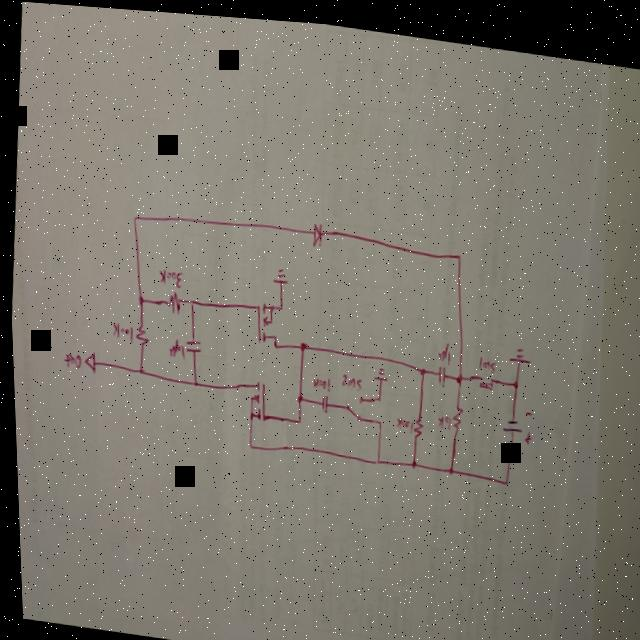capacitor: (181, 335, 199, 354), (434, 357, 444, 381), (317, 388, 326, 411)
diode: (309, 215, 323, 246)
ground: (504, 338, 530, 360), (269, 262, 288, 284), (371, 361, 386, 377)
junction: (453, 367, 461, 380), (135, 293, 143, 305), (510, 372, 517, 385), (296, 338, 305, 348), (293, 390, 301, 401), (416, 361, 424, 372), (499, 470, 507, 481), (292, 411, 300, 422), (129, 213, 137, 224), (186, 296, 194, 306), (444, 460, 451, 471), (135, 364, 142, 375), (244, 438, 251, 449), (407, 453, 414, 463), (371, 452, 378, 462), (454, 246, 461, 256), (189, 377, 196, 385), (373, 414, 380, 422), (374, 390, 380, 398), (271, 340, 276, 347), (277, 302, 282, 309), (271, 331, 275, 338)
resistor: (162, 287, 180, 315), (448, 397, 461, 429), (131, 321, 148, 345), (409, 411, 421, 434)
source: (498, 399, 531, 439)
switch: (341, 388, 362, 418), (472, 367, 494, 387)
terminal: (81, 348, 95, 375)
text: (156, 264, 182, 288), (108, 320, 132, 342), (165, 333, 184, 359), (433, 337, 450, 361), (60, 350, 79, 371), (338, 369, 361, 386), (309, 370, 329, 389), (392, 411, 411, 427), (475, 351, 494, 367), (434, 408, 450, 426)
transistor: (252, 297, 274, 343), (245, 376, 265, 419)
